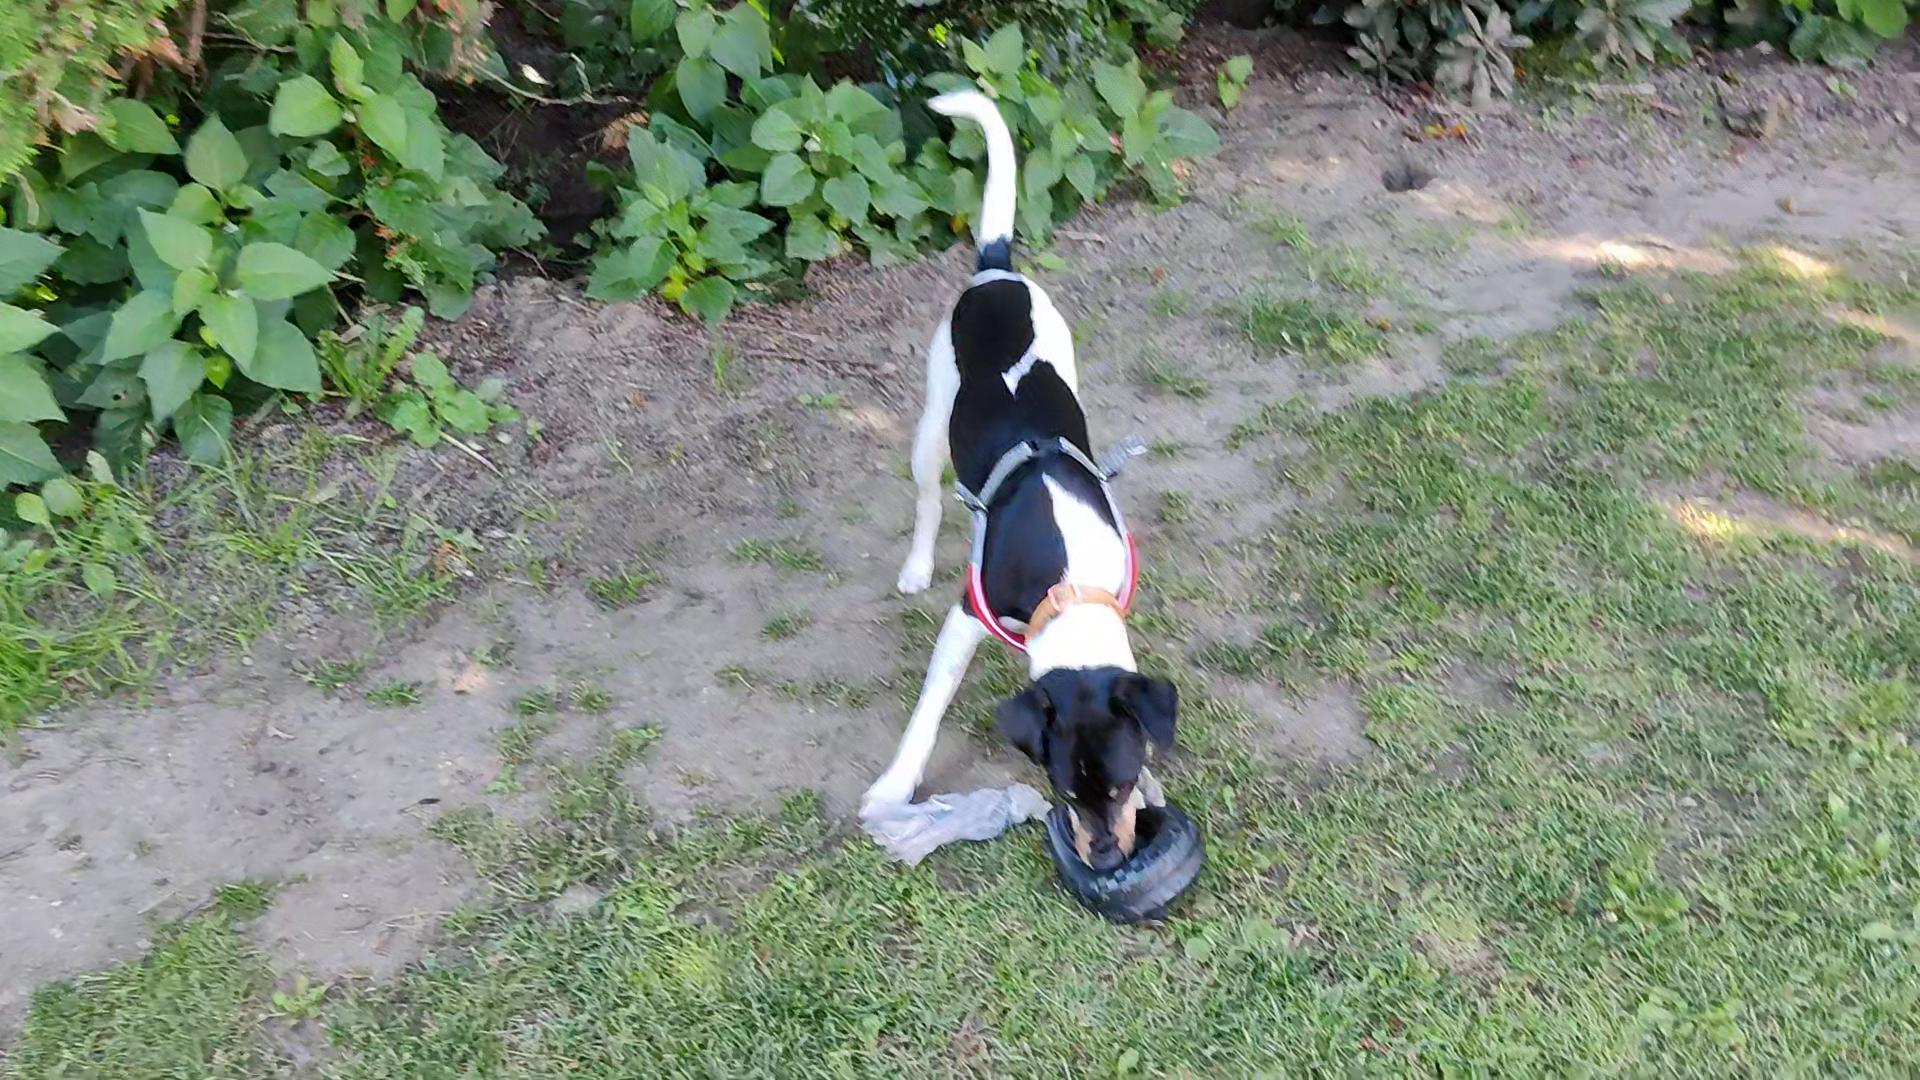Dog: (825, 83, 1191, 862)
